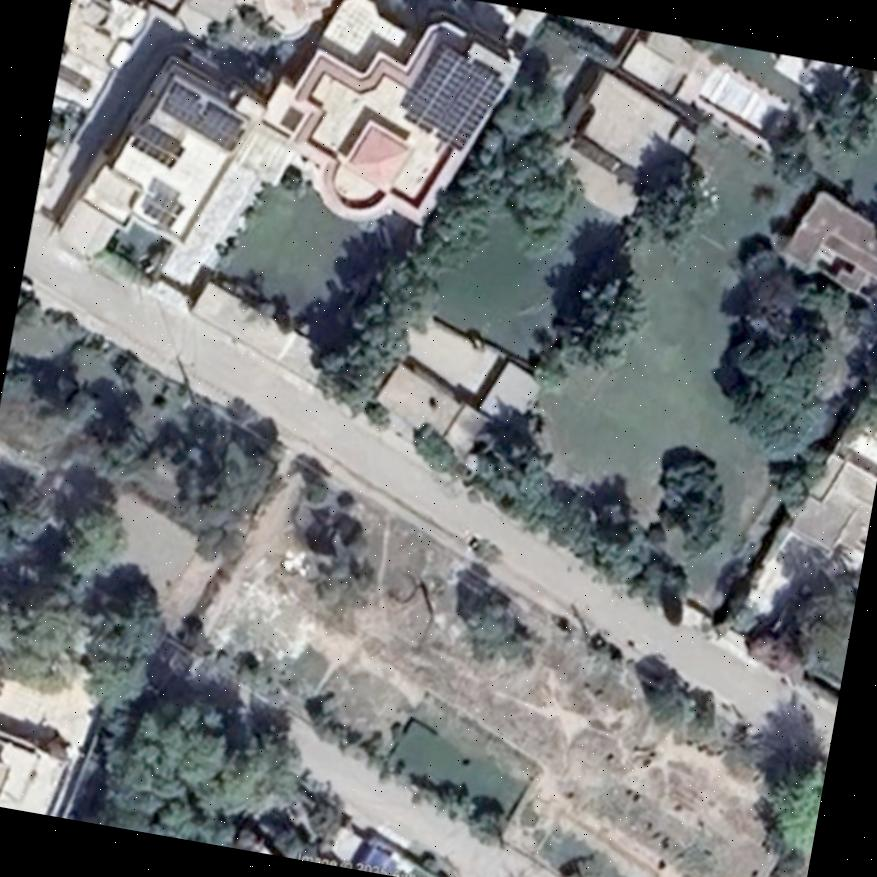Solarpanel: (404, 45, 506, 151), (161, 82, 248, 153), (131, 120, 186, 172), (147, 192, 183, 225)
